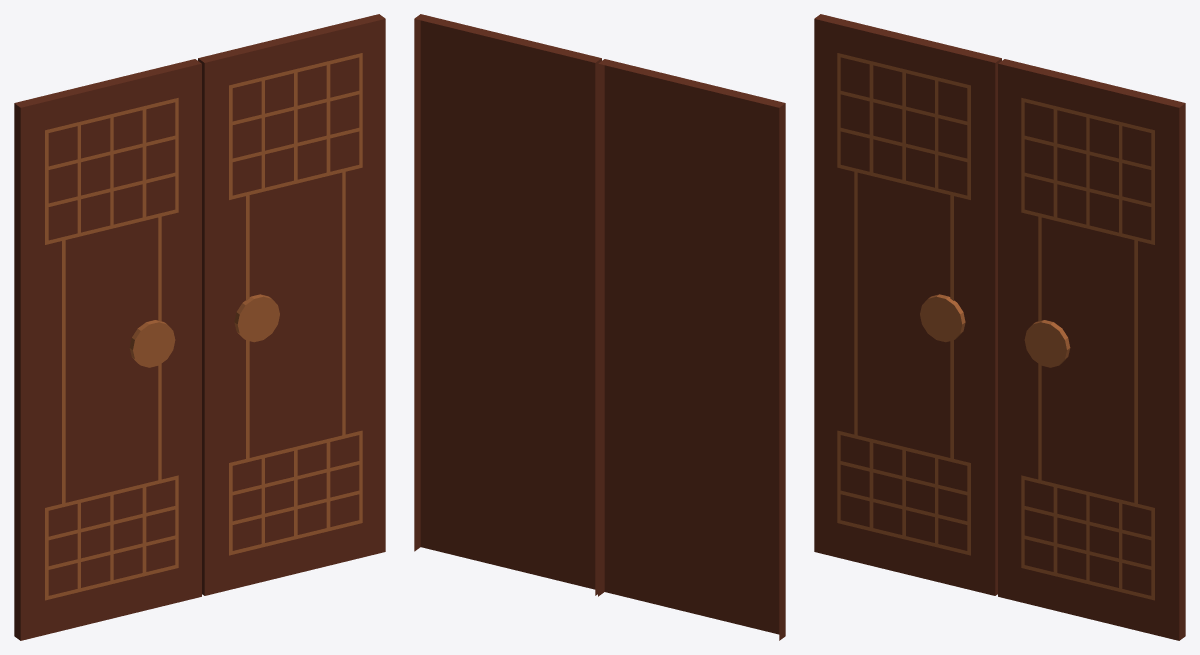
File: mahogany_door.glb
The picture shows the model from 3 angles, left to right: view 1: azimuth 30°, elevation 25°; view 2: azimuth 150°, elevation 25°; view 3: azimuth 330°, elevation 25°; orthographic projection.
Parts seen in each view (by area): view 1: mahogany_door; view 2: mahogany_door; view 3: mahogany_door.
Boxes of the visible parts, box(x1,y1,x2,y2) form: mahogany_door: box(14, 14, 385, 640); mahogany_door: box(414, 14, 785, 640); mahogany_door: box(814, 14, 1185, 640).
Size of the model in its own units: 2.58 by 3.6 by 0.12.
